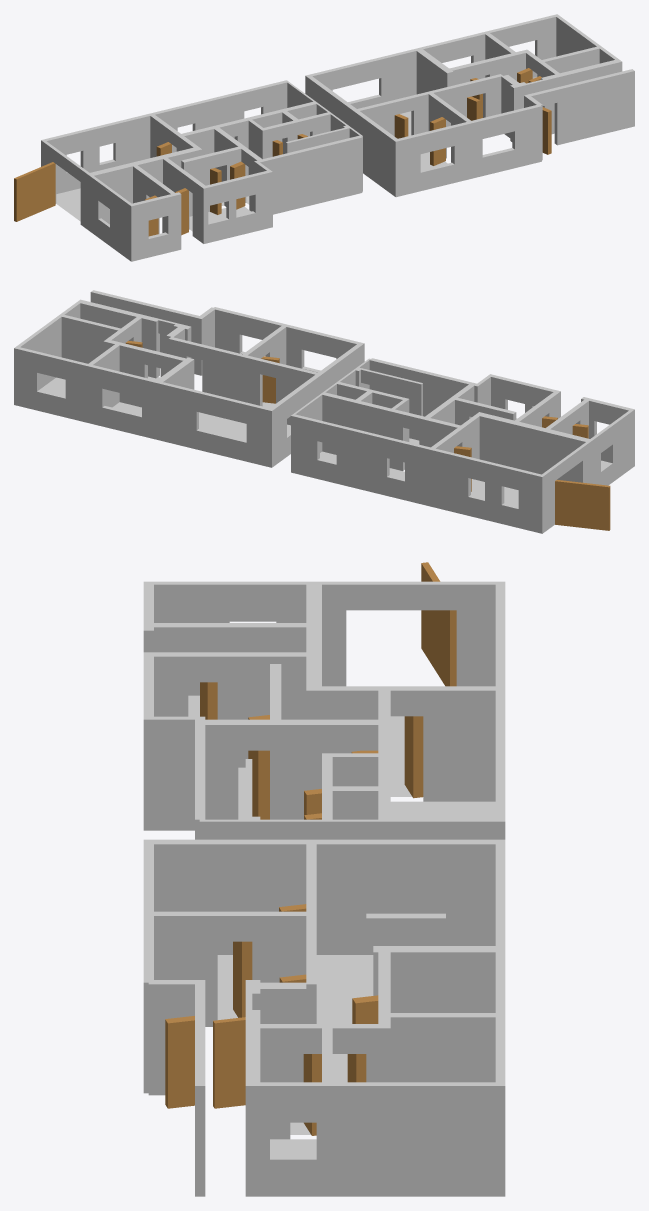
File: WhatsApp Image 2026-03-08 at 21.glb
The picture shows the model from 3 angles, top to bottom: view 1: azimuth 30°, elevation 25°; view 2: azimuth 150°, elevation 25°; view 3: azimuth 270°, elevation 25°; orthographic projection. The views are drawn at different scales.
Visible parts, largest first — view 1: Wall_25, Wall_76, Wall_17, Wall_61, Door_52, Wall_56, Wall_50, Wall_19, Wall_6, Window_29, Wall_96, Wall_88 (+55 smaller); view 2: Wall_61, Wall_56, Wall_96, Wall_50, Wall_88, Wall_42, Door_52, Wall_67, Window_11, Wall_73, Wall_25, Wall_89 (+48 smaller); view 3: Wall_95, Wall_17, Wall_30, Wall_9, Wall_70, Window_77, Wall_53, Wall_68, Wall_23, Wall_8, Wall_75, Wall_22 (+49 smaller).
Boxes of the visible parts, x1,y1,x2,y2 form: Wall_25: (259, 135, 362, 214); Wall_76: (554, 69, 634, 145); Wall_17: (340, 100, 400, 197); Wall_61: (86, 147, 202, 231); Door_52: (14, 162, 55, 221); Wall_56: (113, 108, 172, 166); Wall_50: (379, 45, 434, 102); Wall_19: (452, 119, 482, 182); Wall_6: (512, 105, 541, 167); Window_29: (418, 125, 454, 190); Wall_96: (192, 91, 244, 138); Wall_88: (411, 82, 470, 135); Wall_61: (475, 412, 592, 482); Wall_56: (410, 443, 470, 515); Wall_96: (336, 425, 389, 495); Wall_50: (142, 377, 198, 449); Wall_88: (202, 345, 262, 406); Wall_42: (322, 392, 405, 470); Door_52: (555, 480, 610, 530); Wall_67: (65, 359, 104, 426); Window_11: (196, 391, 248, 461); Wall_73: (58, 314, 125, 363); Wall_25: (369, 358, 471, 416); Wall_89: (77, 299, 159, 378); Wall_95: (316, 1082, 495, 1196); Wall_17: (143, 839, 366, 954); Wall_30: (423, 686, 495, 801); Wall_9: (373, 946, 505, 1012); Wall_70: (384, 1013, 505, 1082); Window_77: (366, 839, 445, 954); Wall_53: (346, 819, 505, 913); Wall_68: (276, 719, 390, 819); Wall_23: (217, 652, 321, 767); Wall_8: (143, 716, 205, 830); Wall_75: (446, 839, 505, 945); Wall_22: (149, 911, 217, 1026).
Bounding box in the file's own units: 27.61 × 2.6 × 7.69.
